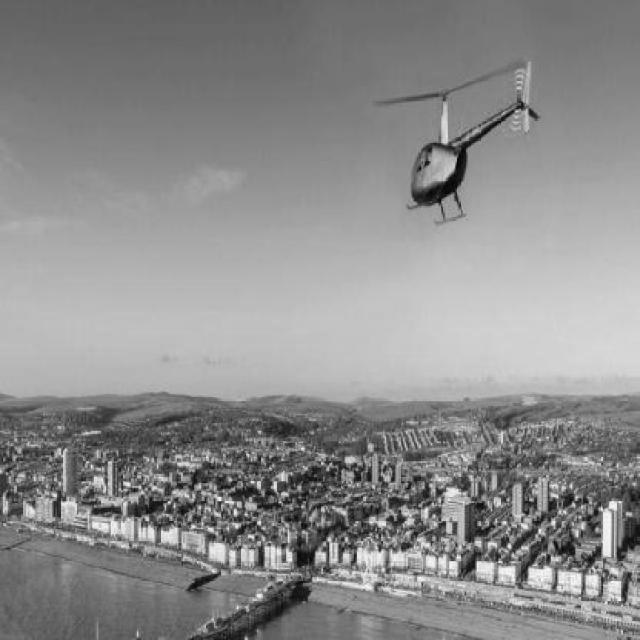helikopter: (359, 49, 538, 242)
